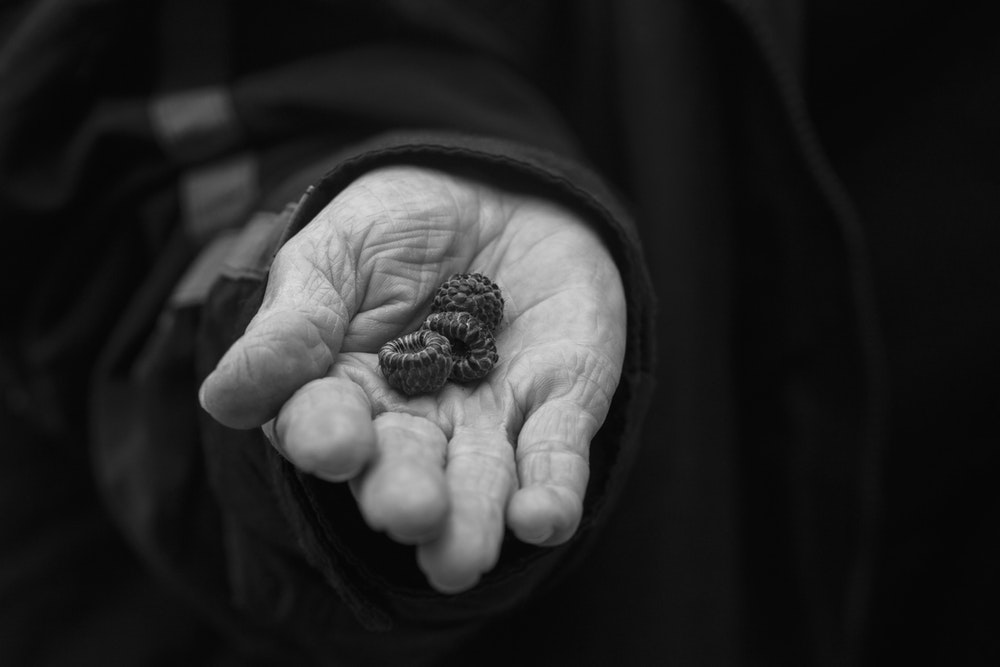palm: (309, 172, 641, 413)
